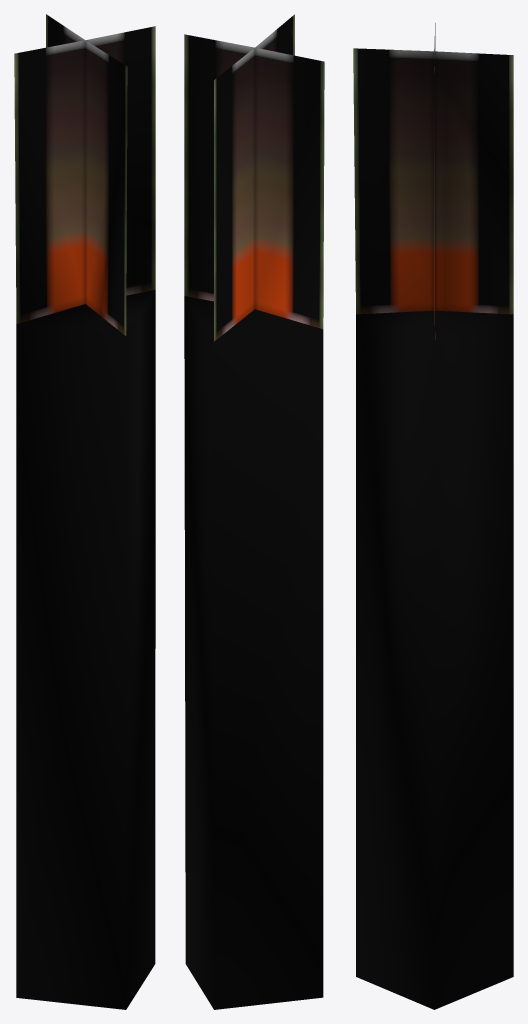
The picture shows the model from 3 angles, left to right: view 1: azimuth 30°, elevation 25°; view 2: azimuth 150°, elevation 25°; view 3: azimuth 270°, elevation 25°; orthographic projection.
Parts seen in each view (by area): view 1: T1L9M003_4; view 2: T1L9M003_4; view 3: T1L9M003_4.
Boxes of the visible parts, x1,y1,x2,y2 form: T1L9M003_4: [14, 14, 155, 1009]; T1L9M003_4: [184, 14, 324, 1009]; T1L9M003_4: [353, 23, 513, 1009].
Size of the model in its own units: 0.166 by 1.06 by 0.166.
